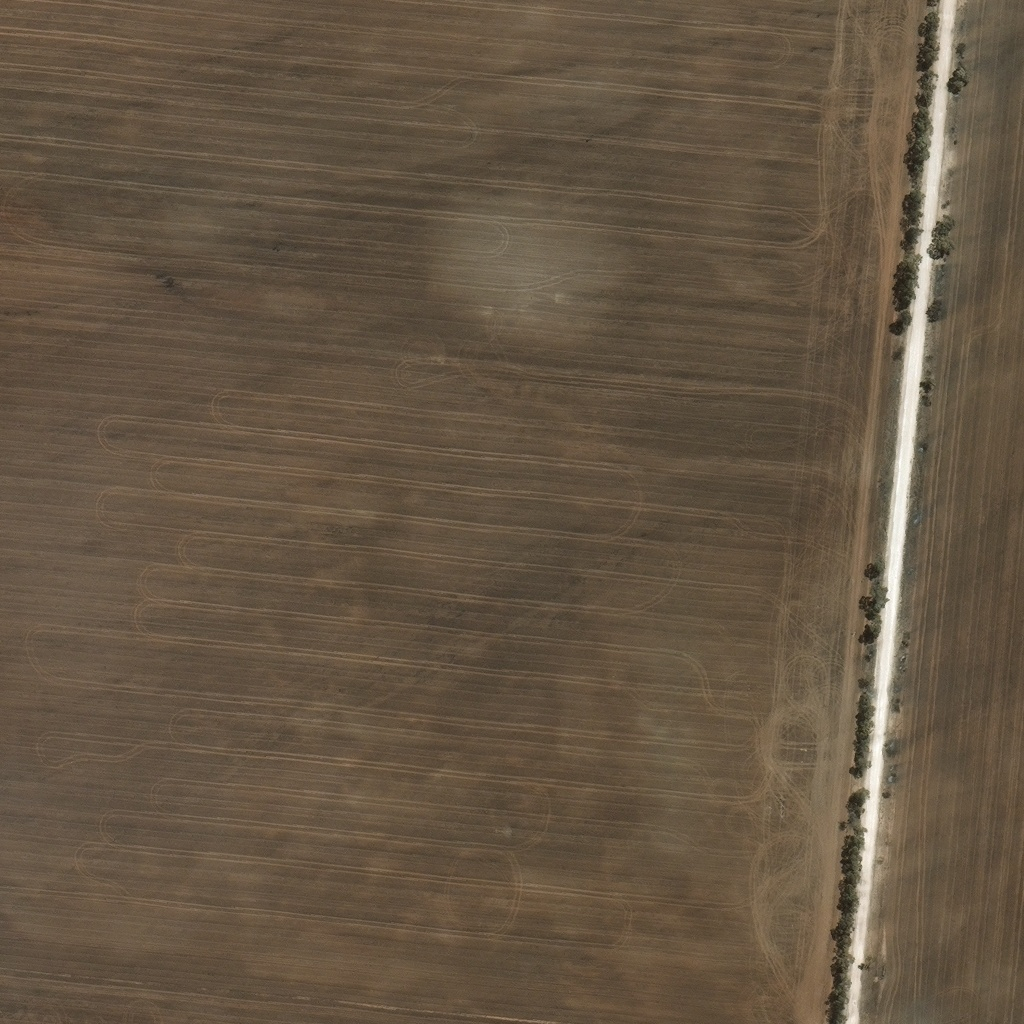4 un-classified: (807, 695, 818, 705)
